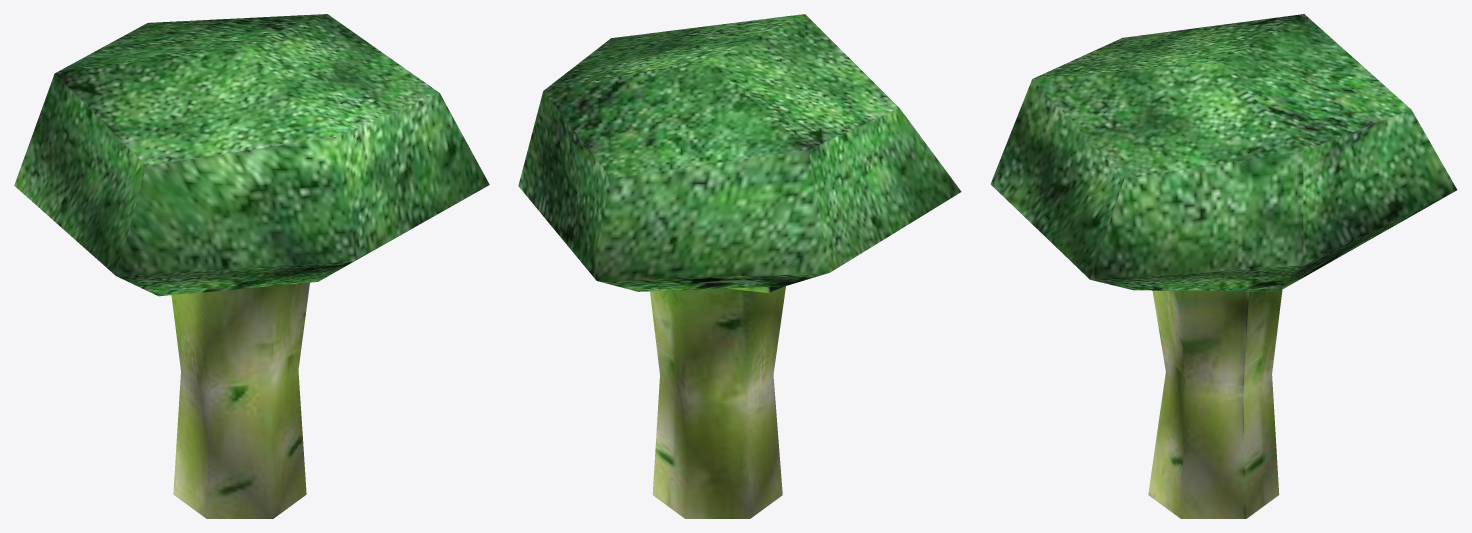
The model's file is Broccoli.glb.
3 views of the same model, side by side, from view 1: azimuth 30°, elevation 25°; view 2: azimuth 150°, elevation 25°; view 3: azimuth 270°, elevation 25° (orthographic). The views are drawn at different scales.
Visible parts, largest first — view 1: Broccoli; view 2: Broccoli; view 3: Broccoli.
Boxes of the visible parts, x1,y1,x2,y2 form: Broccoli: (14,14,489,518); Broccoli: (518,14,961,518); Broccoli: (990,14,1457,518).
Size of the model in its own units: 0.1509 by 0.1708 by 0.1661.
Materials: 1 (1 with a texture image).
